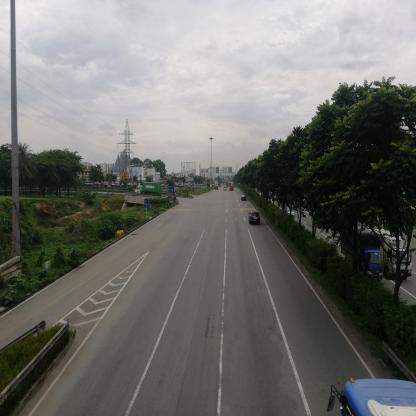bus: (327, 372, 415, 416)
car: (249, 214, 262, 225), (242, 196, 248, 202)
container: (133, 182, 162, 198)
truck: (345, 238, 386, 276), (380, 238, 413, 282)
